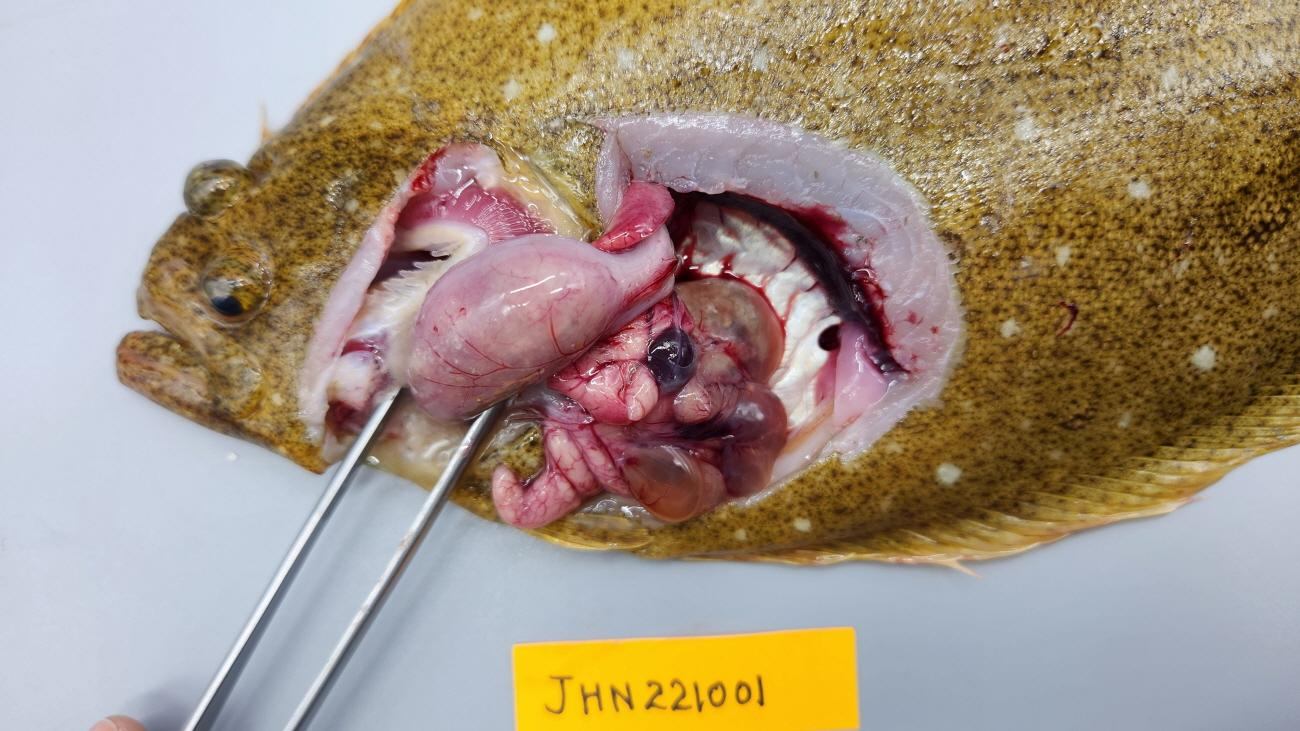POSPN: (648, 325, 697, 395)
